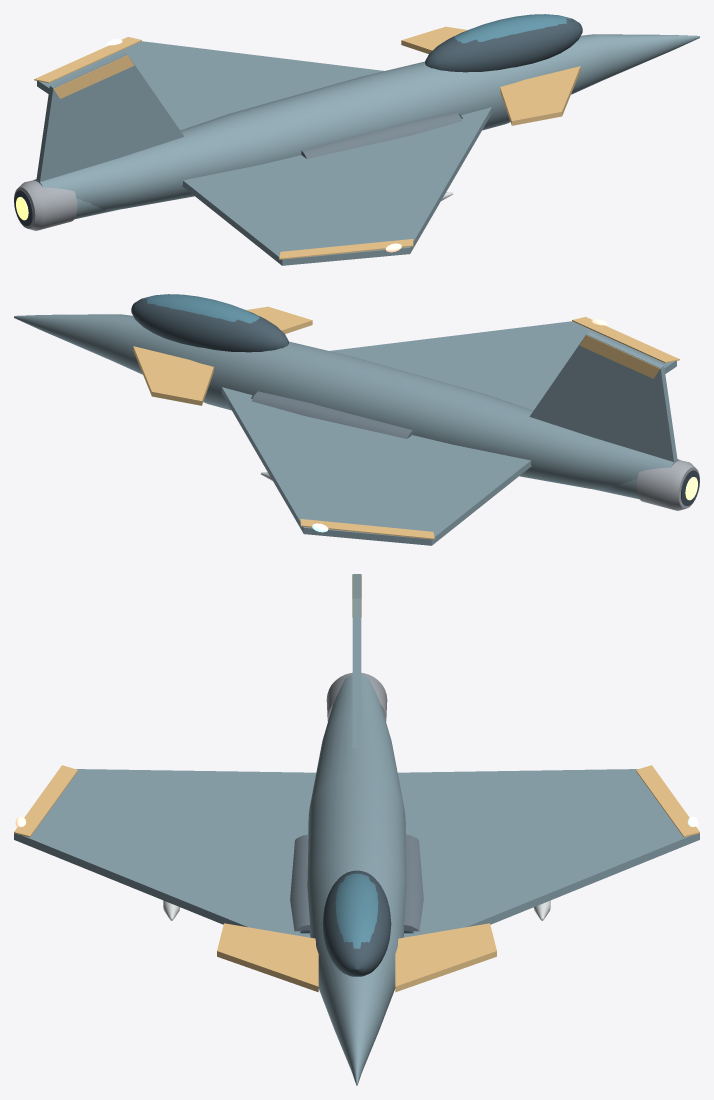
The model's file is JetKite.glb.
3 views of the same model, one above another, from view 1: azimuth 30°, elevation 25°; view 2: azimuth 150°, elevation 25°; view 3: azimuth 270°, elevation 25° (orthographic). The views are drawn at different scales.
Visible parts, largest first — view 1: JetKite; view 2: JetKite; view 3: JetKite.
Part boxes in pixels (left/top/right/bottom): JetKite: left=14, top=14, right=699, bottom=265; JetKite: left=14, top=294, right=699, bottom=545; JetKite: left=14, top=574, right=699, bottom=1085.
Size of the model in its own units: 13.45 by 3.07 by 9.8.
